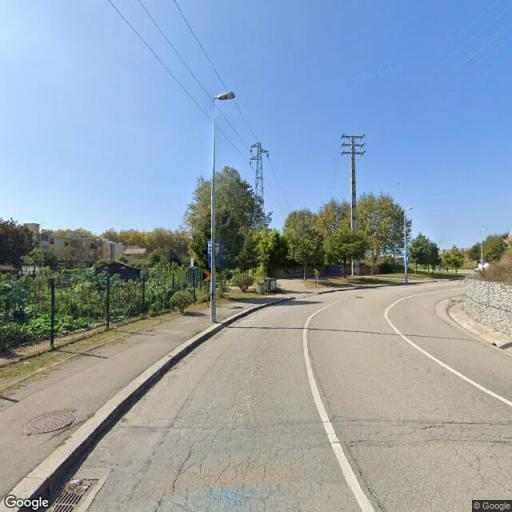mono_9: (338, 131, 368, 276)
ss_4: (249, 139, 272, 235)
